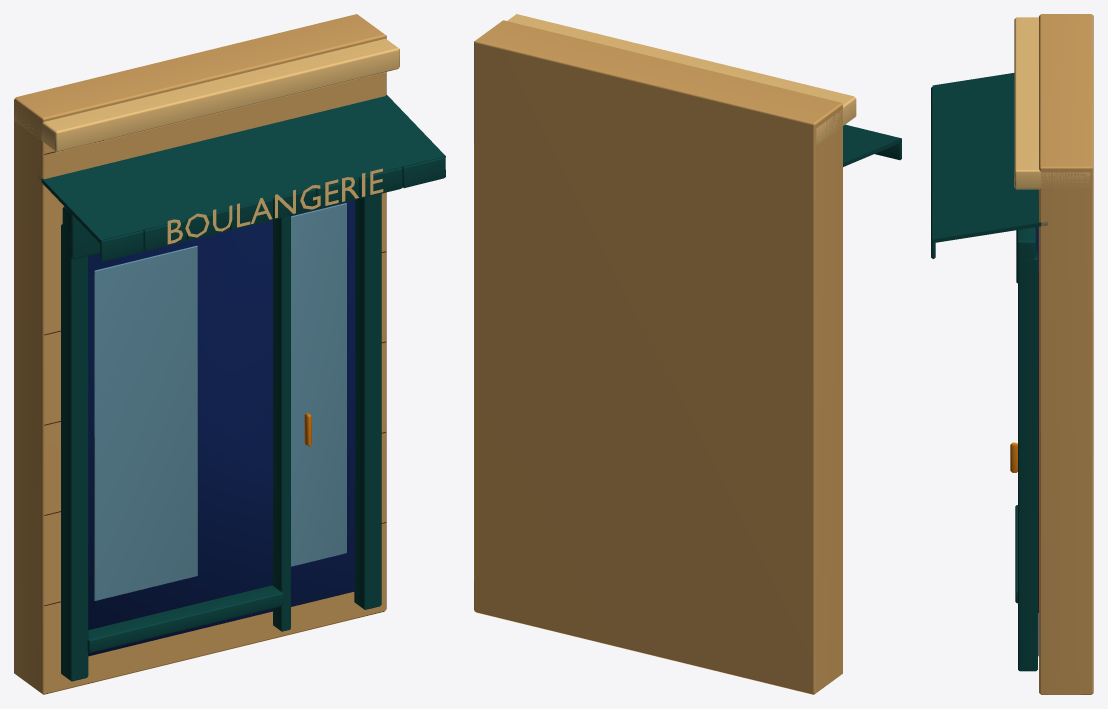
The model's file is facade-shop-2m.glb.
The picture shows the model from 3 angles, left to right: view 1: azimuth 30°, elevation 25°; view 2: azimuth 150°, elevation 25°; view 3: azimuth 270°, elevation 25°; orthographic projection. The views are drawn at different scales.
Parts seen in each view (by area): view 1: shop-module; view 2: shop-module; view 3: shop-module.
Boxes of the visible parts, x1,y1,x2,y2 form: shop-module: (14,14,445,694); shop-module: (474,14,901,694); shop-module: (931,14,1093,694).
Size of the model in its own units: 2 by 3.2 by 0.897.
Materials: 1 (1 with a texture image).
